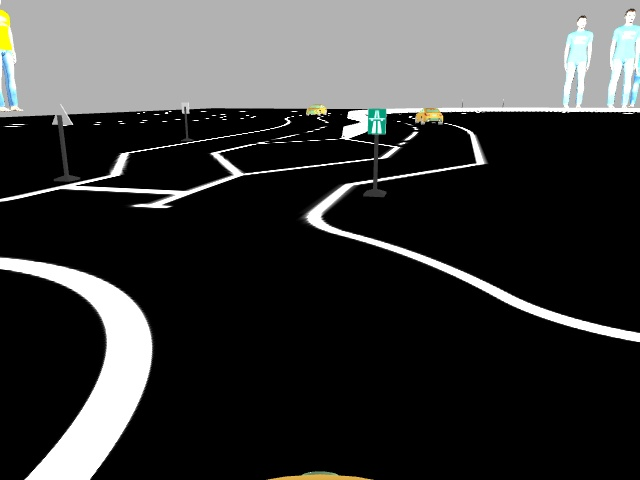HighwayEntrance: (363, 106, 386, 136)
